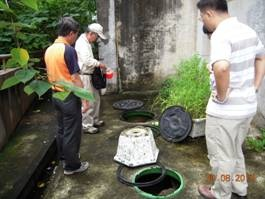bowl: (113, 126, 160, 167)
plate: (158, 104, 193, 143)
